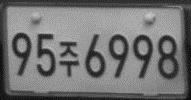5: (36, 33, 56, 77)
6: (84, 32, 106, 77)
8: (156, 34, 179, 79)
9: (132, 34, 155, 79), (11, 32, 32, 77), (108, 34, 129, 78)
주: (59, 41, 79, 78)
